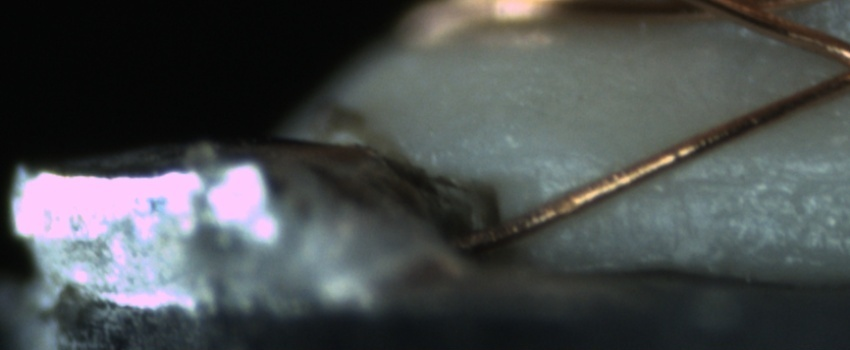CL: (807, 30, 850, 97)
DL: (559, 143, 848, 208)
